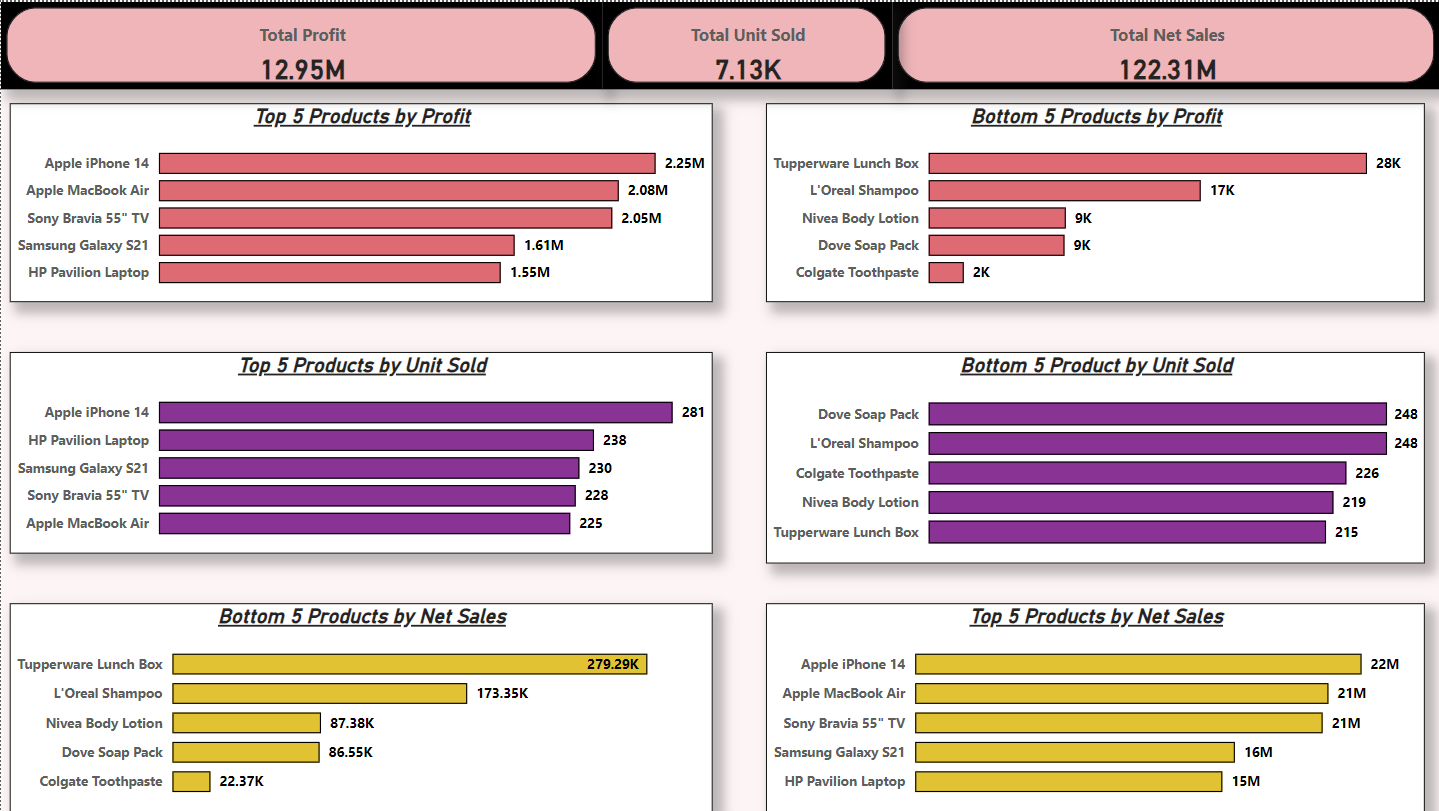

Layout of this report page (visuals, bound fields, positions):
{"tool":"powerbi","page":{"name":"Page 2","canvas":[1280,720],"ordinal":1},"visuals":[{"type":"barChart","title":"Top 5 Products by Net Sales","fields":{"Y":["Sum(TRANSFORMED_SALES.TOTAL_SALES)"],"Category":["DIM_PRODUCT.PRODUCT_NAME"]},"box":[680,534.4,585.6,185.6],"z":0},{"type":"barChart","title":"Bottom 5 Products by Net Sales","fields":{"Category":["DIM_PRODUCT.PRODUCT_NAME"],"Y":["Sum(TRANSFORMED_SALES.TOTAL_SALES)"]},"box":[7.8,534.4,624.4,185.6],"z":1000},{"type":"barChart","title":"Top 5 Products by Profit","fields":{"Category":["DIM_PRODUCT.PRODUCT_NAME"],"Y":["Sum(TRANSFORMED_SALES.PROFIT)"]},"box":[7.8,90,624.4,176.7],"z":2000},{"type":"barChart","title":"Bottom 5 Products by Profit","fields":{"Category":["DIM_PRODUCT.PRODUCT_NAME"],"Y":["Sum(TRANSFORMED_SALES.PROFIT)"]},"box":[680,90,585.6,176.7],"z":3000},{"type":"barChart","title":"Top 5 Products by Unit Sold","fields":{"Category":["DIM_PRODUCT.PRODUCT_NAME"],"Y":["Sum(TRANSFORMED_SALES.UNITS_SOLD)"]},"box":[7.8,311.1,624.4,178.9],"z":4000},{"type":"barChart","title":"Bottom 5 Product by Unit Sold","fields":{"Category":["DIM_PRODUCT.PRODUCT_NAME"],"Y":["Sum(TRANSFORMED_SALES.UNITS_SOLD)"]},"box":[680,311.1,585.6,187.8],"z":5000},{"type":"cardVisual","fields":{"Data":["Sum(TRANSFORMED_SALES.PROFIT)"]},"box":[0,0,534.4,77.8],"z":5001},{"type":"cardVisual","fields":{"Data":["Sum(TRANSFORMED_SALES.NET_SALES)"]},"box":[792.2,0,487.8,77.8],"z":5002},{"type":"cardVisual","fields":{"Data":["Sum(TRANSFORMED_SALES.UNITS_SOLD)"]},"box":[534.4,0,257.8,77.8],"z":5003}]}

Visuals, with their boxes in screenshot pixels (x1, y1, x2, y2), scaled from the page's 1280x720 canvas onto the 1439x811 screenshot:
"Top 5 Products by Net Sales" barChart: <box>764,602,1423,810</box>
"Bottom 5 Products by Net Sales" barChart: <box>9,602,711,810</box>
"Top 5 Products by Profit" barChart: <box>9,101,711,300</box>
"Bottom 5 Products by Profit" barChart: <box>764,101,1423,300</box>
"Top 5 Products by Unit Sold" barChart: <box>9,350,711,552</box>
"Bottom 5 Product by Unit Sold" barChart: <box>764,350,1423,562</box>
cardVisual - Sum(TRANSFORMED_SALES.PROFIT): <box>0,0,601,88</box>
cardVisual - Sum(TRANSFORMED_SALES.NET_SALES): <box>891,0,1438,88</box>
cardVisual - Sum(TRANSFORMED_SALES.UNITS_SOLD): <box>601,0,891,88</box>
